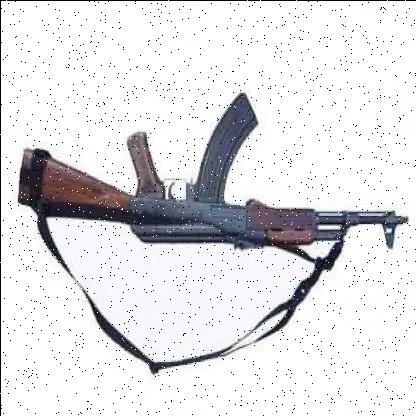rifle: (7, 78, 405, 261)
